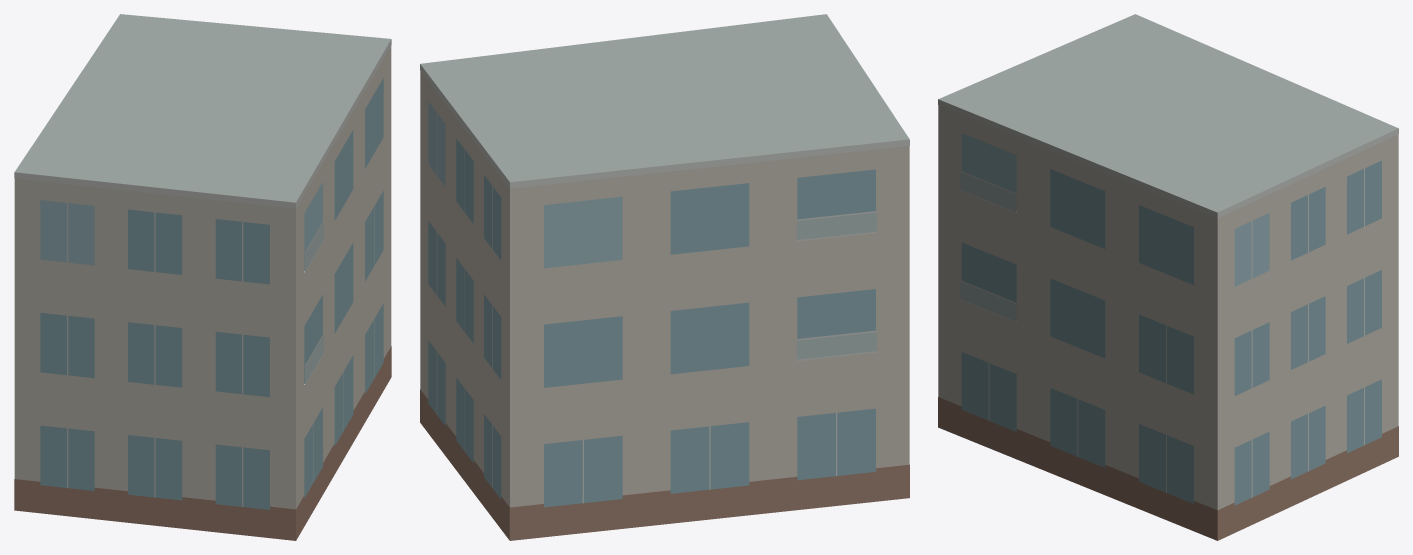
Rendered from survey-upis-32597996.glb.
3 views of the same model, side by side, from view 1: azimuth 30°, elevation 25°; view 2: azimuth 150°, elevation 25°; view 3: azimuth 270°, elevation 25° (orthographic). The views are drawn at different scales.
Parts seen in each view (by area): view 1: survey-upis-32597996.tmp; view 2: survey-upis-32597996.tmp; view 3: survey-upis-32597996.tmp.
Part boxes in pixels (x1,y1,x2,y2): survey-upis-32597996.tmp: [14, 14, 391, 540]; survey-upis-32597996.tmp: [420, 14, 909, 540]; survey-upis-32597996.tmp: [938, 14, 1398, 540].
Bounding box in the file's own units: 17.66 × 13.6 × 17.3.
